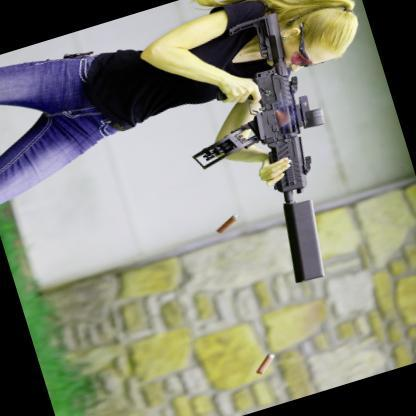rifle: (148, 3, 380, 308)
